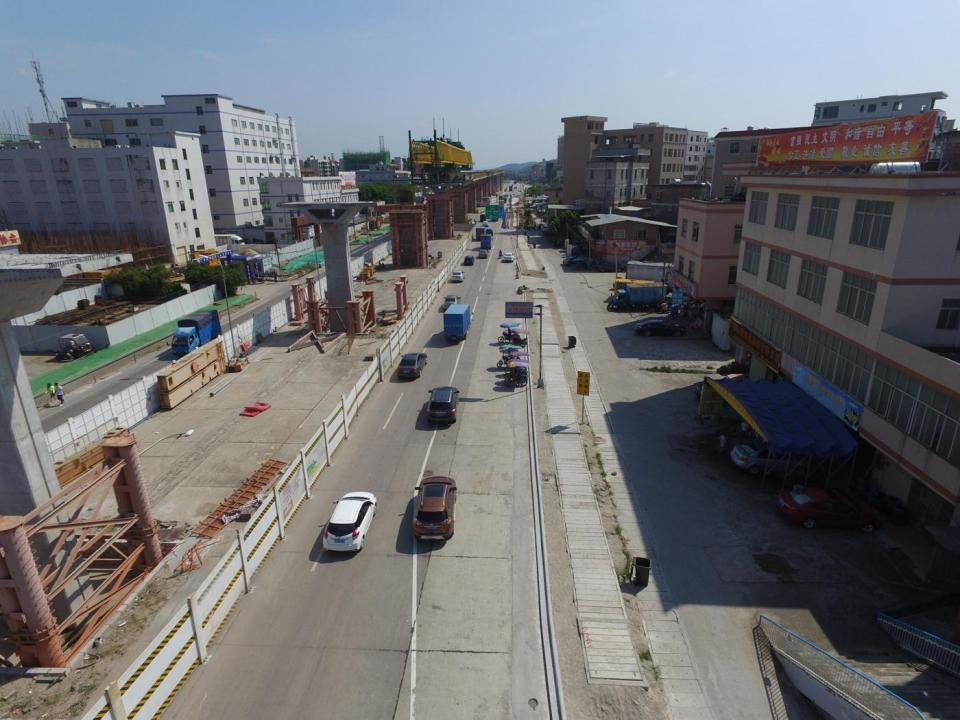bus: (614, 278, 655, 298)
car: (776, 488, 883, 534), (321, 491, 378, 552), (730, 438, 814, 475), (412, 477, 457, 542), (426, 387, 460, 424), (635, 320, 686, 336), (397, 353, 427, 377), (597, 262, 624, 273), (443, 296, 461, 309), (450, 271, 466, 281), (464, 254, 475, 266), (562, 256, 576, 265), (503, 252, 514, 262), (479, 249, 488, 258), (486, 228, 493, 236), (483, 222, 488, 226)
truck: (166, 310, 221, 356), (607, 282, 667, 310), (443, 304, 470, 341), (481, 234, 491, 249), (476, 226, 485, 242)
van: (480, 214, 486, 222), (542, 224, 548, 232)
